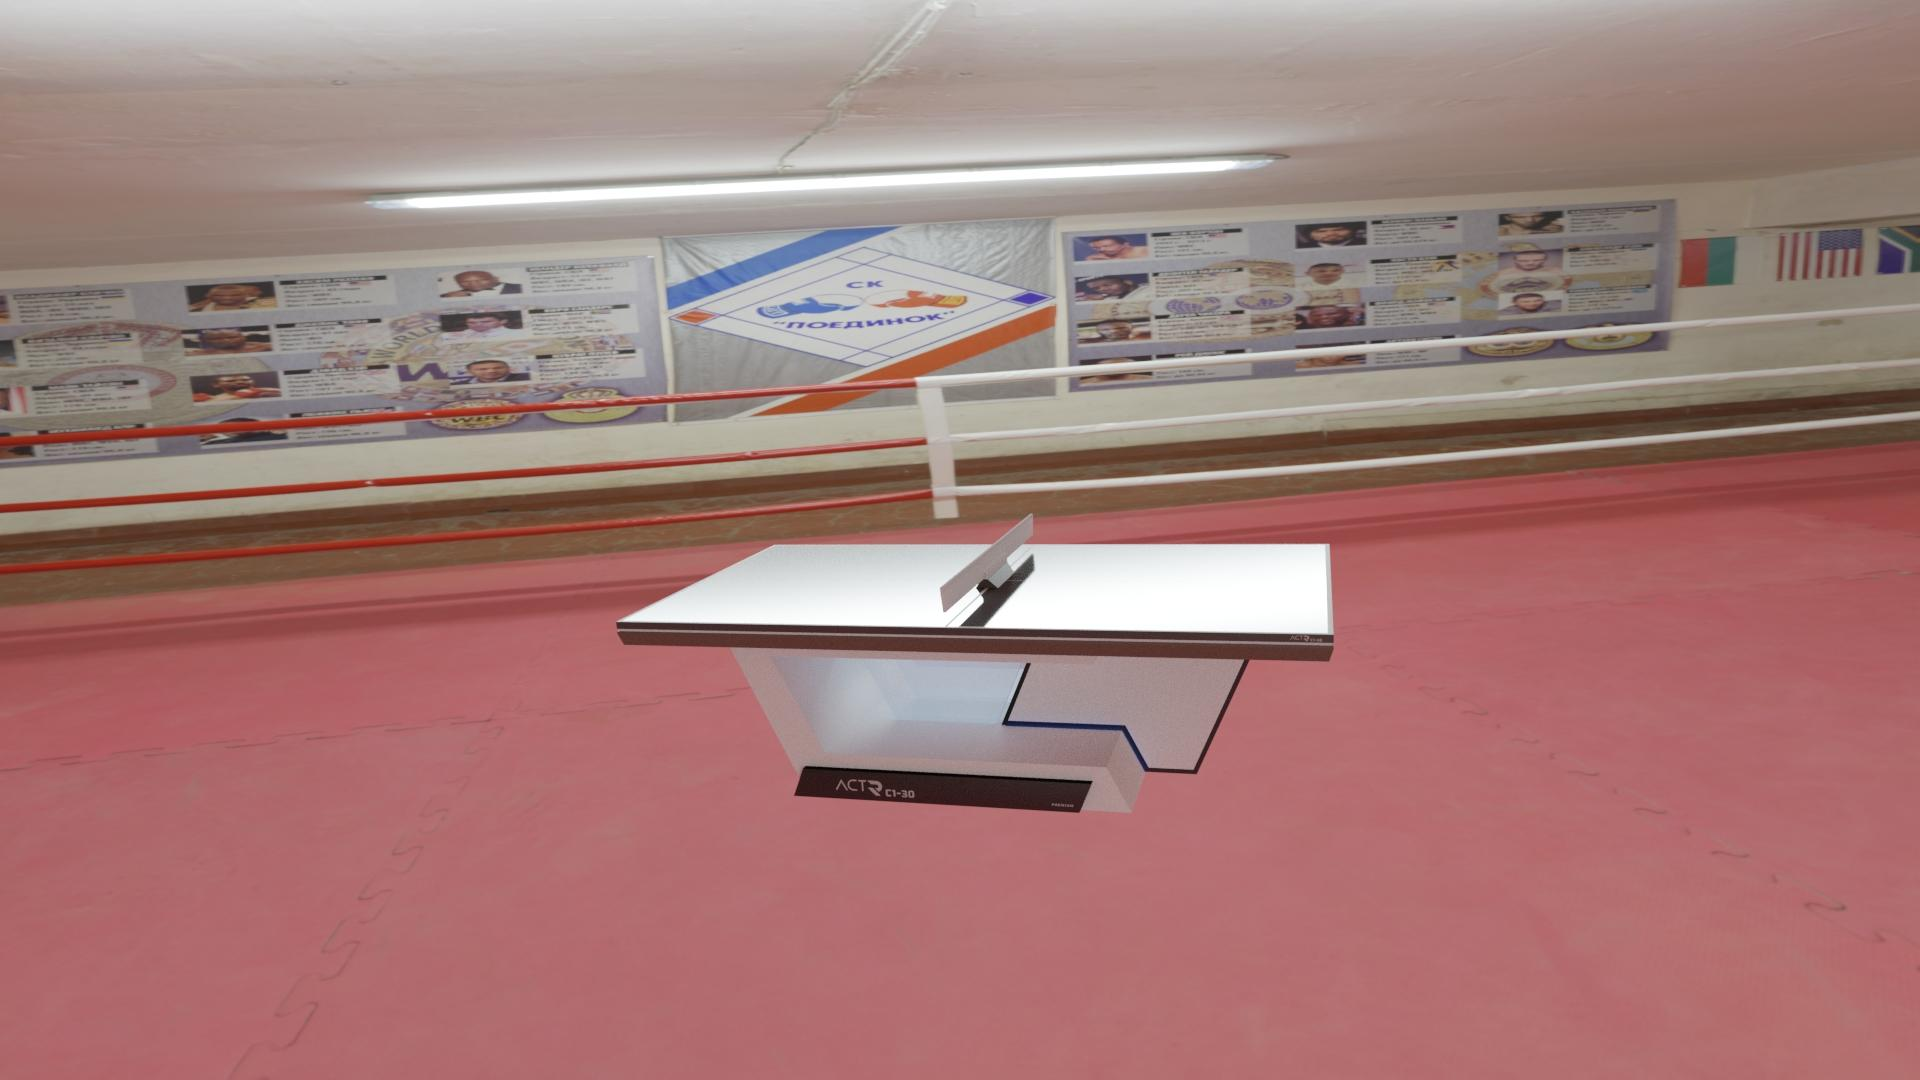table: (622, 545, 1328, 633)
